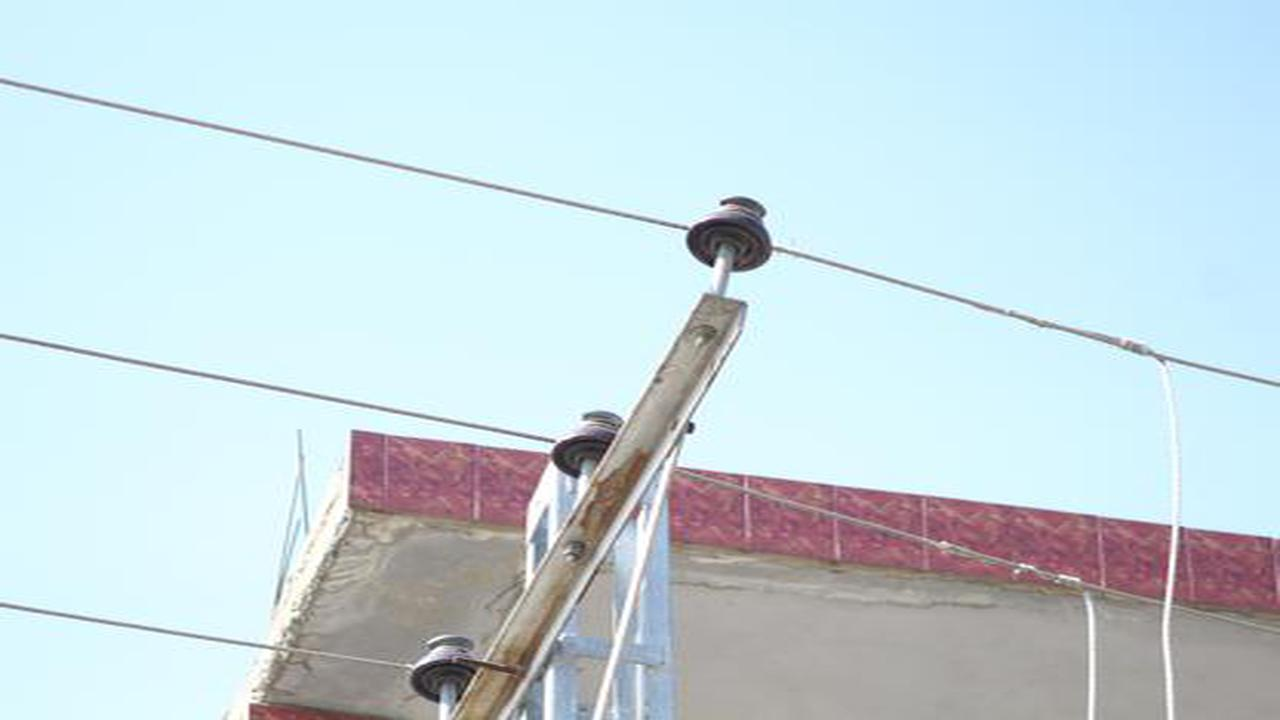insulator_pin: (675, 182, 782, 283), (407, 621, 490, 701), (550, 397, 627, 476)
